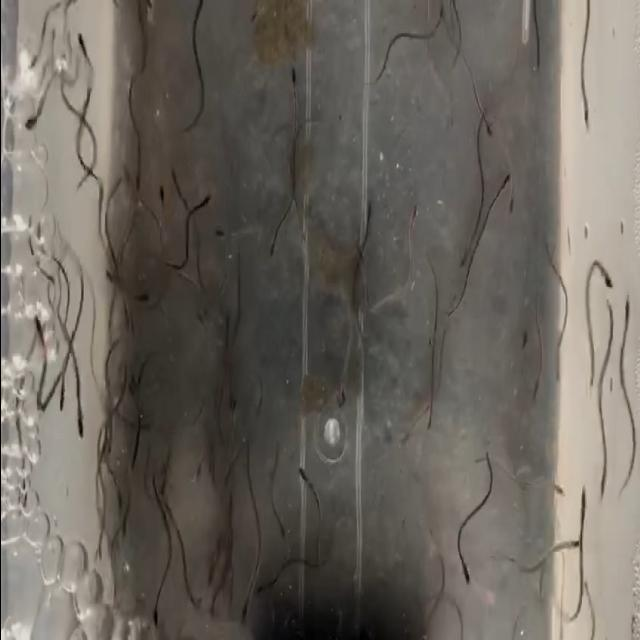active_glass_eel: (425, 388, 453, 438), (16, 34, 42, 82), (260, 228, 282, 280), (428, 1, 450, 51), (522, 368, 548, 408), (503, 156, 519, 216), (406, 194, 422, 248), (458, 214, 474, 267), (292, 448, 310, 494), (183, 18, 200, 66), (235, 584, 252, 628), (114, 504, 136, 538), (70, 28, 88, 68), (252, 566, 272, 602), (354, 206, 374, 241), (454, 540, 468, 589), (32, 261, 50, 299), (437, 338, 454, 378), (71, 409, 88, 448), (600, 247, 614, 293), (99, 411, 113, 457), (573, 484, 589, 523), (582, 579, 596, 623), (130, 164, 146, 200), (499, 103, 522, 128), (154, 184, 167, 228), (198, 181, 217, 211), (288, 40, 298, 96), (550, 474, 566, 508), (30, 102, 48, 130), (484, 99, 496, 140), (163, 518, 177, 551), (598, 408, 608, 454), (328, 368, 340, 406), (274, 520, 286, 558), (89, 365, 100, 406), (153, 577, 163, 621), (570, 528, 584, 559), (622, 286, 633, 325), (153, 443, 170, 468), (578, 97, 592, 127), (208, 224, 224, 250), (98, 363, 110, 397), (552, 329, 566, 358), (446, 615, 462, 640), (136, 284, 150, 312), (602, 295, 617, 321), (531, 41, 543, 73), (95, 536, 106, 568), (622, 414, 632, 448), (96, 216, 110, 238), (55, 386, 69, 408), (239, 208, 247, 230)
